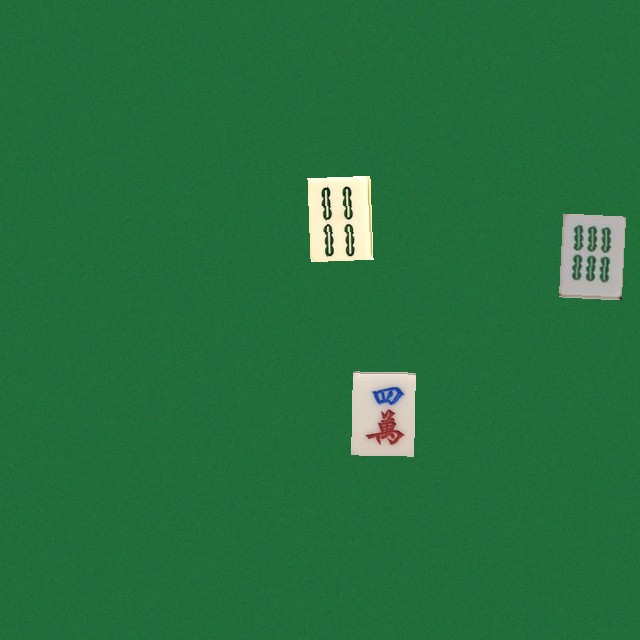tile: (351, 371, 414, 455), (558, 213, 621, 297), (307, 175, 370, 259)
